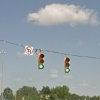Traffic light: (31, 49, 79, 69)
